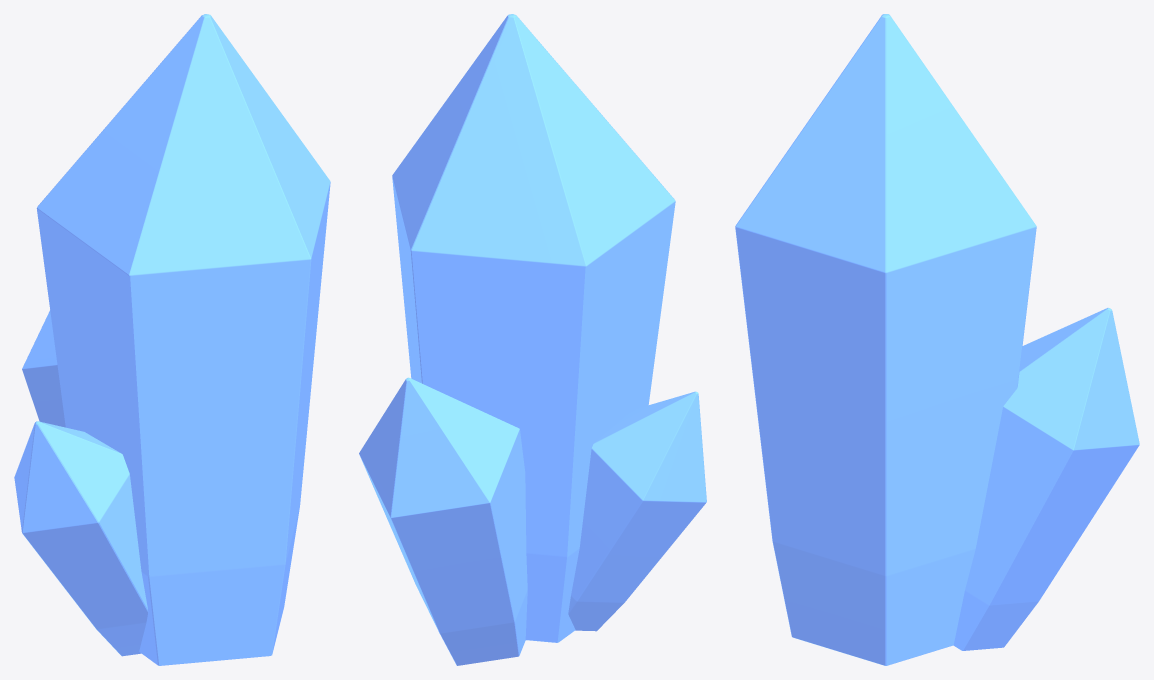
The model's file is gem_rock.fbx.
3 views of the same model, side by side, from view 1: azimuth 30°, elevation 25°; view 2: azimuth 150°, elevation 25°; view 3: azimuth 270°, elevation 25° (orthographic). The views are drawn at different scales.
Visible parts, largest first — view 1: pCylinder4; view 2: pCylinder4; view 3: pCylinder4.
Boxes of the visible parts, bbox=[...] form: pCylinder4: bbox=[14, 14, 330, 665]; pCylinder4: bbox=[359, 14, 706, 665]; pCylinder4: bbox=[735, 14, 1139, 665].
Bounding box in the file's own units: 3.29 × 6.27 × 3.63.
